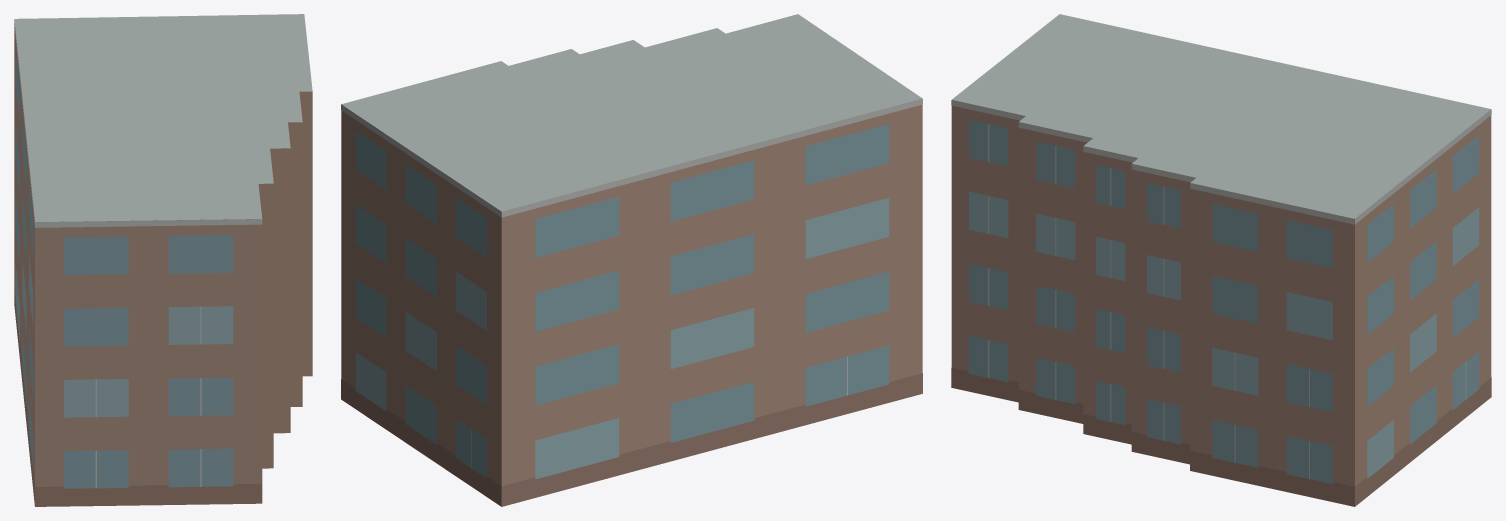
The model's file is survey-upis-32888856.glb.
The picture shows the model from 3 angles, left to right: view 1: azimuth 30°, elevation 25°; view 2: azimuth 150°, elevation 25°; view 3: azimuth 270°, elevation 25°; orthographic projection. The views are drawn at different scales.
Parts seen in each view (by area): view 1: survey-upis-32888856.tmp; view 2: survey-upis-32888856.tmp; view 3: survey-upis-32888856.tmp.
Part boxes in pixels (box(x1,y1,x2,y2)): survey-upis-32888856.tmp: box(14, 14, 312, 506); survey-upis-32888856.tmp: box(341, 14, 922, 506); survey-upis-32888856.tmp: box(951, 14, 1491, 506).
Bounding box in the file's own units: 18.63 × 12.2 × 20.74.
